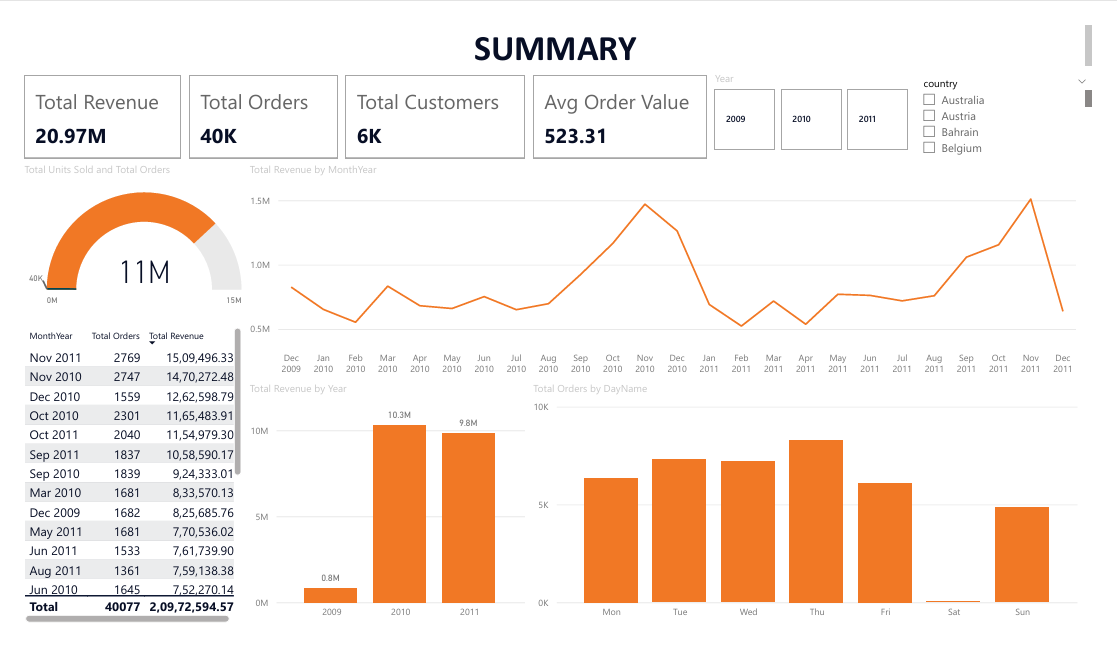

This screenshot's page, from the dashboard's own definition file:
{"tool":"powerbi","page":{"name":"Executive Summary","canvas":[1280,720],"ordinal":0},"visuals":[{"type":"tableEx","fields":{"Values":["retail.MonthYear","retail.Total Orders","retail.Total Revenue"]},"box":[0,359.5,267.8,362],"z":0},{"type":"cardVisual","fields":{"Data":["retail.Total Revenue"]},"box":[0,59.9,195.8,107.9],"z":1000},{"type":"cardVisual","fields":{"Data":["retail.Total Orders"]},"box":[195.8,59.9,185.8,107.9],"z":2000},{"type":"cardVisual","fields":{"Data":["retail.Avg Order Value"]},"box":[605.2,59.9,215.7,107.9],"z":3000},{"type":"cardVisual","fields":{"Data":["retail.Total Customers"]},"box":[381.5,59.9,223.7,107.9],"z":4000},{"type":"lineChart","fields":{"Category":["retail.MonthYear"],"Y":["retail.Total Revenue"]},"box":[267.8,167.5,994.2,261.7],"z":5000},{"type":"advancedSlicerVisual","fields":{"Values":["retail.Year"]},"box":[821,59.9,239.7,97.9],"z":6000},{"type":"slicer","fields":{"Values":["retail.country"]},"box":[1060.7,59.9,219.7,107.9],"z":7000},{"type":"textbox","box":[0,0,1280.3,59.9],"z":8000},{"type":"clusteredColumnChart","fields":{"Category":["retail.Year"],"Y":["retail.Total Revenue"]},"box":[267.8,429.2,337.5,291],"z":9000},{"type":"clusteredColumnChart","fields":{"Category":["retail.DayName"],"Y":["retail.Total Orders"]},"box":[605.3,429.2,656.7,291],"z":10000},{"type":"gauge","fields":{"Y":["retail.Total Units Sold"],"TargetValue":["retail.Total Orders"]},"box":[0,167.5,267.8,192],"z":11000}]}

Visuals, with their boxes in screenshot pixels (x1, y1, x2, y2), scaled from the page's 1280x720 canvas onto the 1117x646 screenshot:
tableEx - retail.MonthYear x retail.Total Orders: x1=0 y1=323 x2=234 y2=645
cardVisual - retail.Total Revenue: x1=0 y1=54 x2=171 y2=151
cardVisual - retail.Total Orders: x1=171 y1=54 x2=333 y2=151
cardVisual - retail.Avg Order Value: x1=528 y1=54 x2=716 y2=151
cardVisual - retail.Total Customers: x1=333 y1=54 x2=528 y2=151
lineChart - retail.MonthYear x retail.Total Revenue: x1=234 y1=150 x2=1101 y2=385
advancedSlicerVisual - retail.Year: x1=716 y1=54 x2=926 y2=142
slicer - retail.country: x1=926 y1=54 x2=1116 y2=151
textbox: x1=0 y1=0 x2=1116 y2=54
clusteredColumnChart - retail.Year x retail.Total Revenue: x1=234 y1=385 x2=528 y2=645
clusteredColumnChart - retail.DayName x retail.Total Orders: x1=528 y1=385 x2=1101 y2=645
gauge - retail.Total Units Sold x retail.Total Orders: x1=0 y1=150 x2=234 y2=323
